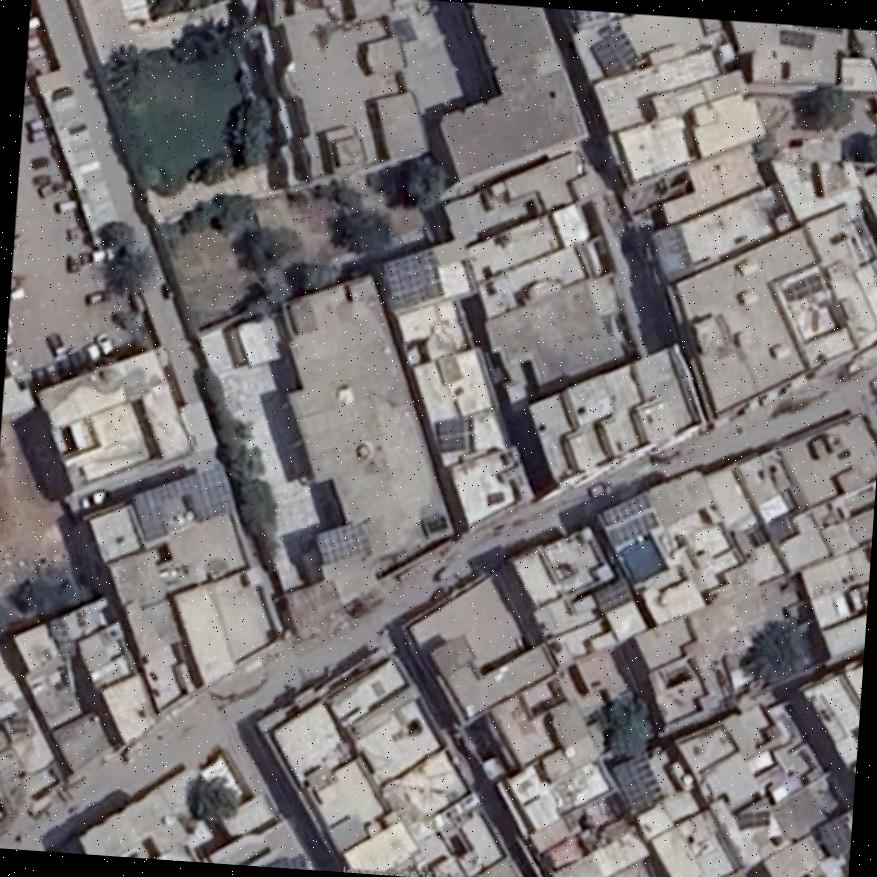Solarpanel: (133, 469, 236, 538), (381, 251, 442, 306), (599, 492, 658, 546), (616, 758, 664, 813), (590, 24, 637, 75), (320, 521, 368, 564), (435, 419, 464, 449), (779, 28, 814, 49), (790, 273, 821, 295)
